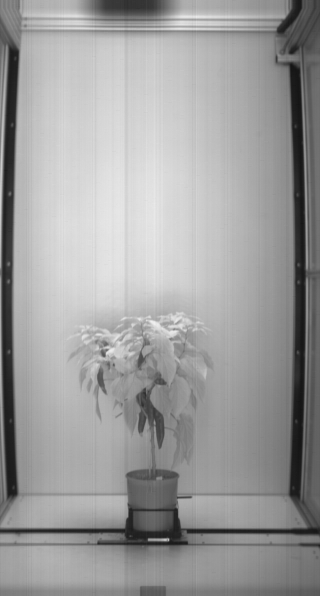bell-pepper fooled_you: (137, 394, 155, 427), (153, 410, 165, 448), (137, 341, 148, 369), (97, 367, 107, 395), (137, 407, 145, 437)
